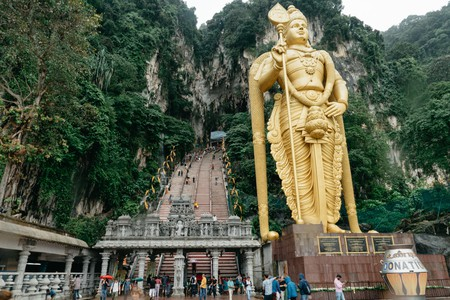Hindu Temple: (243, 1, 367, 233)
